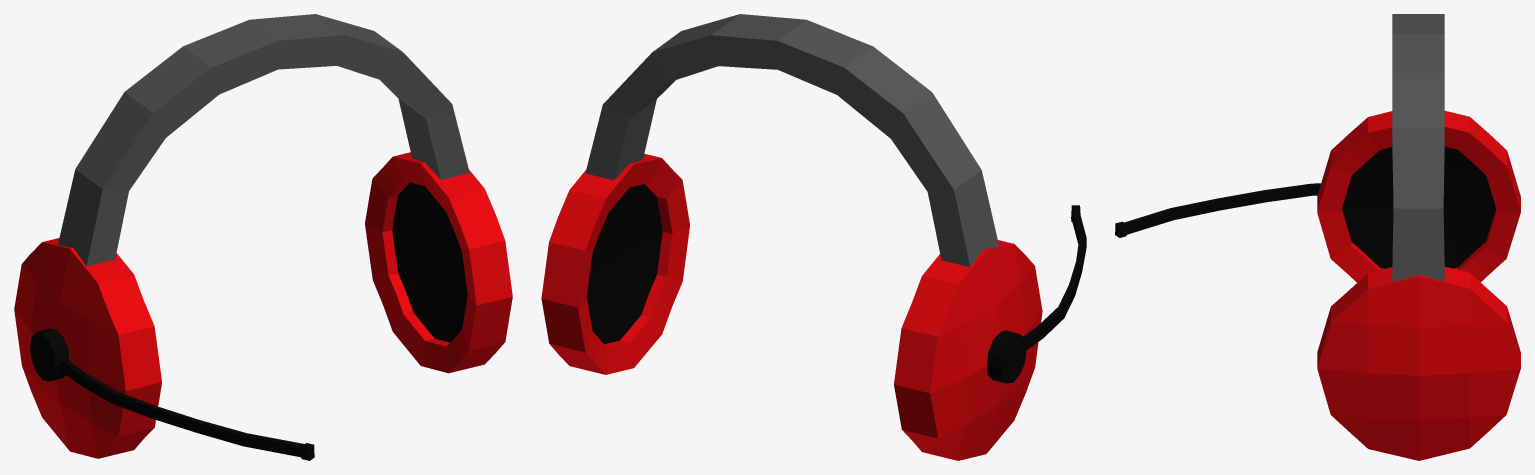
The model's file is Headphones.fbx.
3 renders of one model, left to right at view 1: azimuth 30°, elevation 25°; view 2: azimuth 150°, elevation 25°; view 3: azimuth 270°, elevation 25°, orthographic. The views are drawn at different scales.
Visible parts, largest first — view 1: Headphones, Headphones_Top, Headphones_mic, Headphones_michandle; view 2: Headphones, Headphones_Top, Headphones_mic, Headphones_michandle; view 3: Headphones, Headphones_Top, Headphones_mic.
Part boxes in pixels (x1,y1,x2,y2): Headphones: [14, 152, 512, 458]; Headphones_Top: [58, 14, 469, 266]; Headphones_mic: [59, 358, 314, 460]; Headphones_michandle: [30, 328, 68, 381]; Headphones: [541, 153, 1042, 460]; Headphones_Top: [585, 14, 999, 267]; Headphones_mic: [1023, 205, 1086, 349]; Headphones_michandle: [987, 330, 1026, 383]; Headphones: [1317, 110, 1520, 460]; Headphones_Top: [1392, 14, 1444, 281]; Headphones_mic: [1115, 183, 1320, 237].
Bounding box in the file's own units: 39.97 × 33.22 × 35.83.
